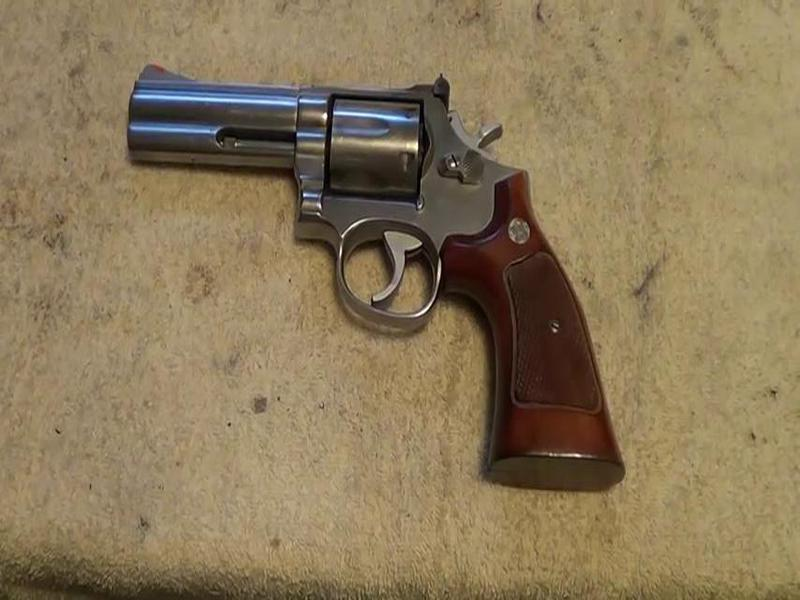Revolver: (106, 43, 649, 506)
